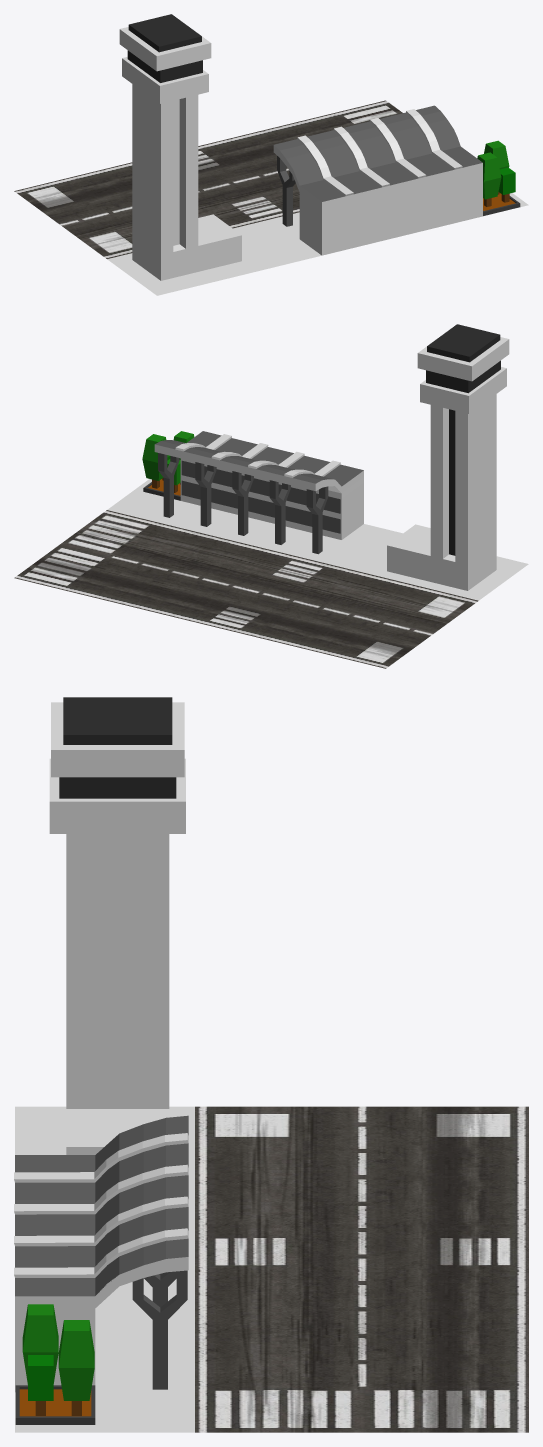
File: bandara.fbx
The picture shows the model from 3 angles, top to bottom: view 1: azimuth 30°, elevation 25°; view 2: azimuth 150°, elevation 25°; view 3: azimuth 270°, elevation 25°; orthographic projection. The views are drawn at different scales.
Visible parts, largest first — view 1: Plane, Cube.003, Cube, Cube.002, Cube.005, Cube.001, Cube.008, Cube.004, Cube.006; view 2: Plane, Cube.003, Cube, Cube.001, Cube.002, Cube.006; view 3: Plane, Cube.003, Cube, Cube.002, Cube.001, Cube.006, Cube.004, Cube.005, Cube.008.
Boxes of the visible parts, x1=… form: Plane: x1=14, y1=100, x2=528, y2=295; Cube.003: x1=119, y1=14, x2=241, y2=280; Cube: x1=273, y1=105, x2=482, y2=255; Cube.002: x1=297, y1=109, x2=462, y2=196; Cube.005: x1=477, y1=152, x2=501, y2=206; Cube.001: x1=277, y1=156, x2=295, y2=226; Cube.008: x1=498, y1=167, x2=515, y2=202; Cube.004: x1=483, y1=193, x2=520, y2=215; Cube.006: x1=484, y1=140, x2=509, y2=194; Plane: x1=14, y1=479, x2=528, y2=668; Cube.003: x1=387, y1=324, x2=509, y2=590; Cube: x1=154, y1=431, x2=363, y2=539; Cube.001: x1=158, y1=453, x2=328, y2=554; Cube.002: x1=175, y1=434, x2=340, y2=477; Cube.006: x1=142, y1=434, x2=169, y2=488; Plane: x1=15, y1=1106, x2=528, y2=1432; Cube.003: x1=49, y1=697, x2=185, y2=1154; Cube: x1=15, y1=1115, x2=188, y2=1392; Cube.002: x1=14, y1=1133, x2=188, y2=1277; Cube.001: x1=132, y1=1270, x2=187, y2=1389; Cube.006: x1=58, y1=1320, x2=94, y2=1415; Cube.004: x1=15, y1=1385, x2=95, y2=1424; Cube.005: x1=22, y1=1304, x2=58, y2=1384; Cube.008: x1=28, y1=1355, x2=53, y2=1415.
Size of the model in its own units: 3000 by 1816 by 2004.
Materials: 12 (1 with a texture image).
